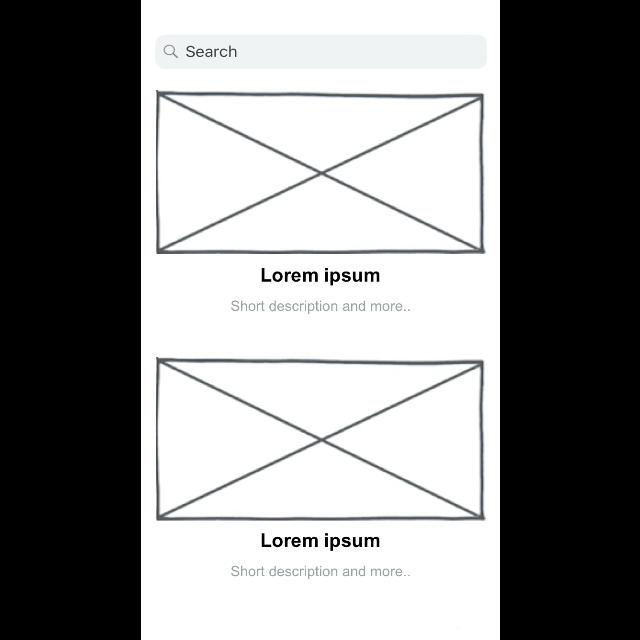icon: (162, 45, 178, 59)
image: (154, 356, 486, 522), (154, 90, 486, 256)
input: (155, 34, 487, 70)
text: (230, 300, 410, 314), (261, 532, 379, 552), (230, 566, 410, 578), (261, 268, 379, 286), (186, 46, 237, 58)
